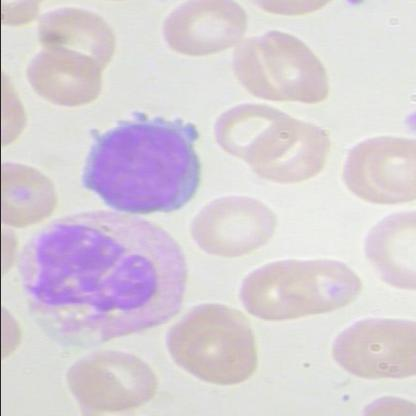Platelets: (337, 1, 367, 12)
RBC: (318, 312, 415, 386), (186, 190, 281, 263), (62, 344, 161, 414), (197, 99, 296, 169), (162, 320, 260, 390), (152, 0, 248, 62), (338, 132, 414, 208), (234, 253, 314, 325), (21, 45, 108, 109), (362, 206, 416, 298), (1, 157, 61, 231)
WBC: (12, 206, 197, 356), (75, 112, 208, 218)
